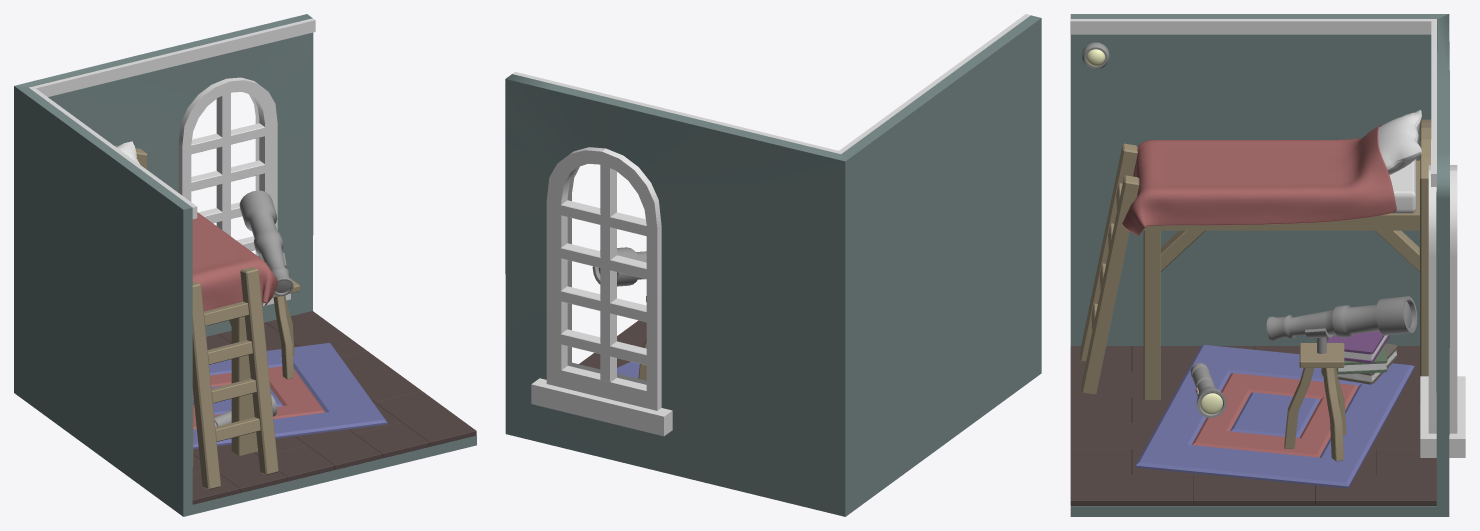
Rendered from BedroomSketchFab.fbx.
3 views of the same model, side by side, from view 1: azimuth 30°, elevation 25°; view 2: azimuth 150°, elevation 25°; view 3: azimuth 270°, elevation 25° (orthographic). The views are drawn at different scales.
Visible parts, largest first — view 1: WhiteBoxRoom, WindowWall, pCube1 (×3), Border, Trim, polySurface2, pCube18, LadderPost01, LadderPost02, pCylinder1, Middle, pCube2 (+13 smaller); view 2: WindowWall, WhiteBoxRoom, pCube18, pCube23, Trim, pCube19, pCube21, pCube20, pCube22, pCube2, pCylinder1; view 3: WhiteBoxRoom, polySurface2, Border, pCube1 (×3), Trim, WindowWall, pCube18, Middle, pCube3 (×2), pCylinder1, LadderPost01, pCube2 (+23 smaller).
Boxes of the visible parts, bbox=[...] form: WhiteBoxRoom: bbox=[14, 86, 476, 516]; WindowWall: bbox=[14, 14, 313, 336]; pCube1 (×3): bbox=[193, 391, 476, 493]; Border: bbox=[193, 343, 387, 449]; Trim: bbox=[29, 18, 315, 219]; polySurface2: bbox=[192, 212, 278, 311]; pCube18: bbox=[178, 77, 290, 305]; LadderPost01: bbox=[240, 267, 278, 474]; LadderPost02: bbox=[192, 281, 220, 489]; pCylinder1: bbox=[239, 190, 293, 296]; Middle: bbox=[193, 366, 325, 429]; pCube2: bbox=[341, 351, 421, 402]; WindowWall: bbox=[505, 74, 845, 516]; WhiteBoxRoom: bbox=[841, 15, 1041, 516]; pCube18: bbox=[531, 147, 672, 436]; pCube23: bbox=[600, 164, 616, 382]; Trim: bbox=[512, 14, 1030, 154]; pCube19: bbox=[560, 200, 646, 236]; pCube21: bbox=[560, 286, 646, 322]; pCube20: bbox=[560, 243, 646, 279]; pCube22: bbox=[560, 329, 646, 365]; pCube2: bbox=[579, 320, 646, 369]; pCylinder1: bbox=[592, 247, 646, 286]; WhiteBoxRoom: bbox=[1070, 14, 1448, 516]; polySurface2: bbox=[1122, 125, 1396, 235]; Border: bbox=[1135, 345, 1414, 488]; pCube1 (×3): bbox=[1070, 371, 1192, 505]; Trim: bbox=[1070, 19, 1436, 186]; WindowWall: bbox=[1436, 14, 1449, 516]; pCube18: bbox=[1420, 165, 1465, 457]; Middle: bbox=[1192, 373, 1358, 457]; pCube3 (×2): bbox=[1315, 423, 1436, 505]; pCylinder1: bbox=[1266, 296, 1417, 340]; LadderPost01: bbox=[1081, 175, 1139, 394]; pCube2: bbox=[1193, 475, 1314, 505].
Bounding box in the file's own units: 6.2 × 6.2 × 6.47.
